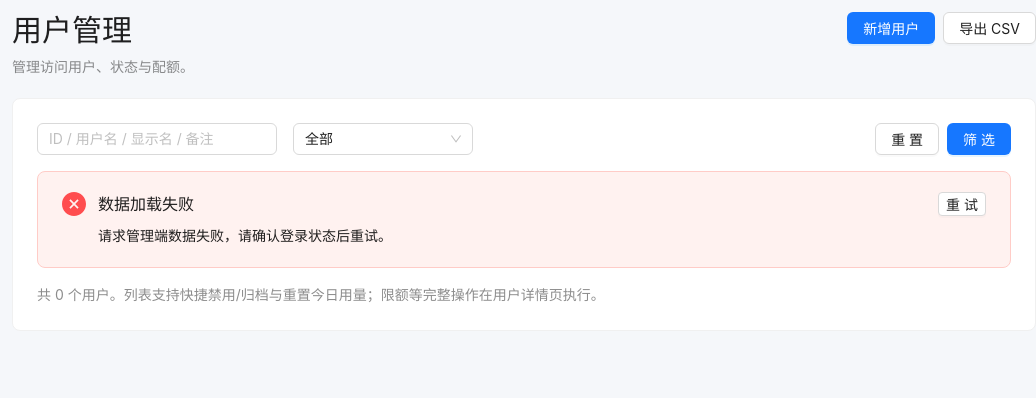
Scenario: 用户列表页 › 请求失败时展示错误态，重试会重新发起查询
This screenshot has width=1036, height=398.
Expected: the text "数据加载失败" is shown, [98, 194, 194, 214]
Expected: the text "@alice" is not shown
Note: antd 按钮会在两个汉字之间插入空格（"重 试"），用正则匹配可访问名
Click the button "重 试" at (962, 204), box [938, 192, 986, 216]
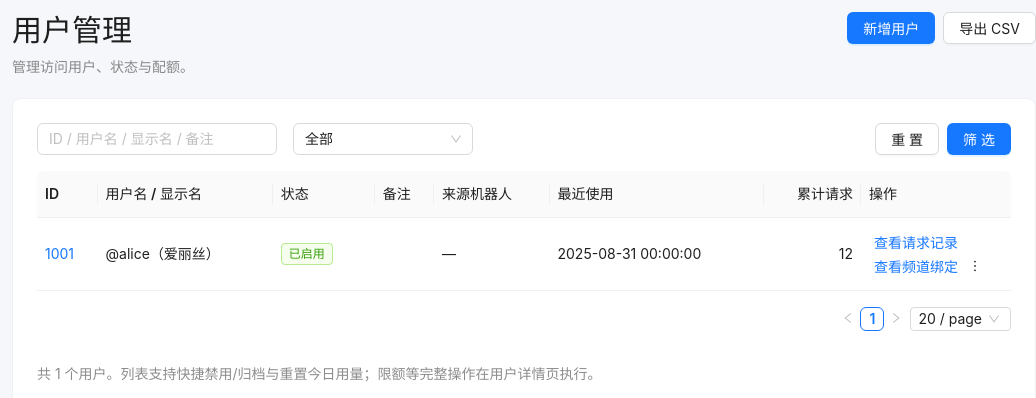
Expected: the text "@alice（爱丽丝）" is shown, [98, 218, 273, 290]
